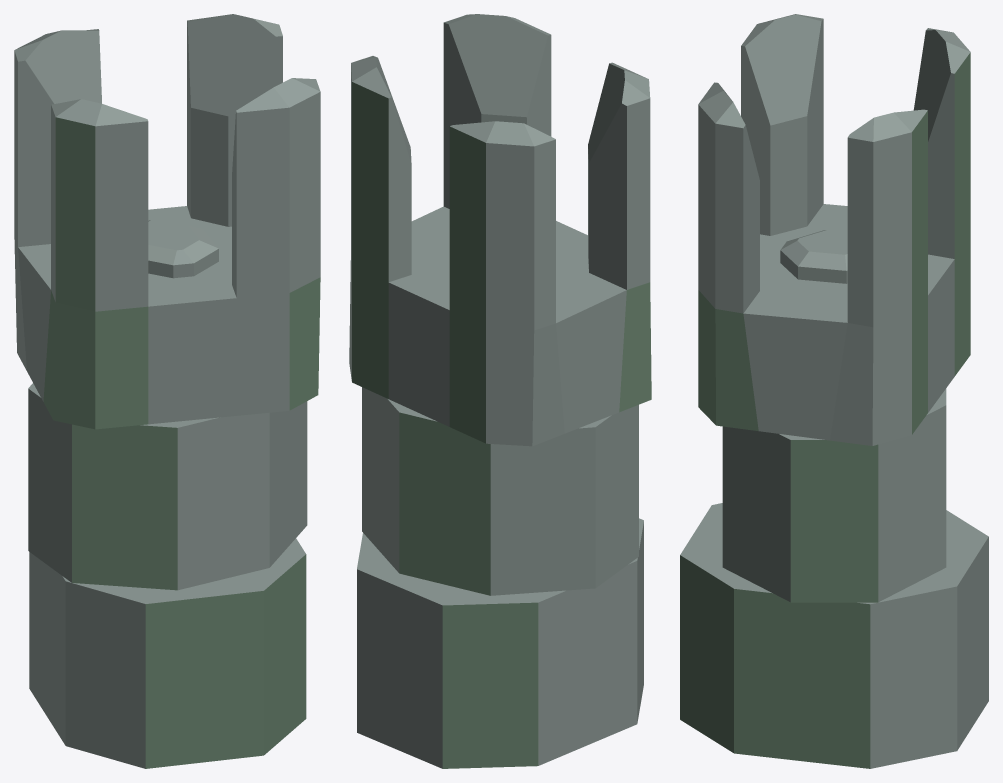
The model's file is pedestal.fbx.
3 renders of one model, left to right at view 1: azimuth 30°, elevation 25°; view 2: azimuth 150°, elevation 25°; view 3: azimuth 270°, elevation 25°, orthographic.
Parts seen in each view (by area): view 1: Cube.584; view 2: Cube.584; view 3: Cube.584.
Part boxes in pixels (box(x1,y1,x2,y2)): Cube.584: box(14, 14, 320, 768); Cube.584: box(349, 14, 651, 768); Cube.584: box(680, 14, 988, 768).
Size of the model in its own units: 113 by 261 by 113.
